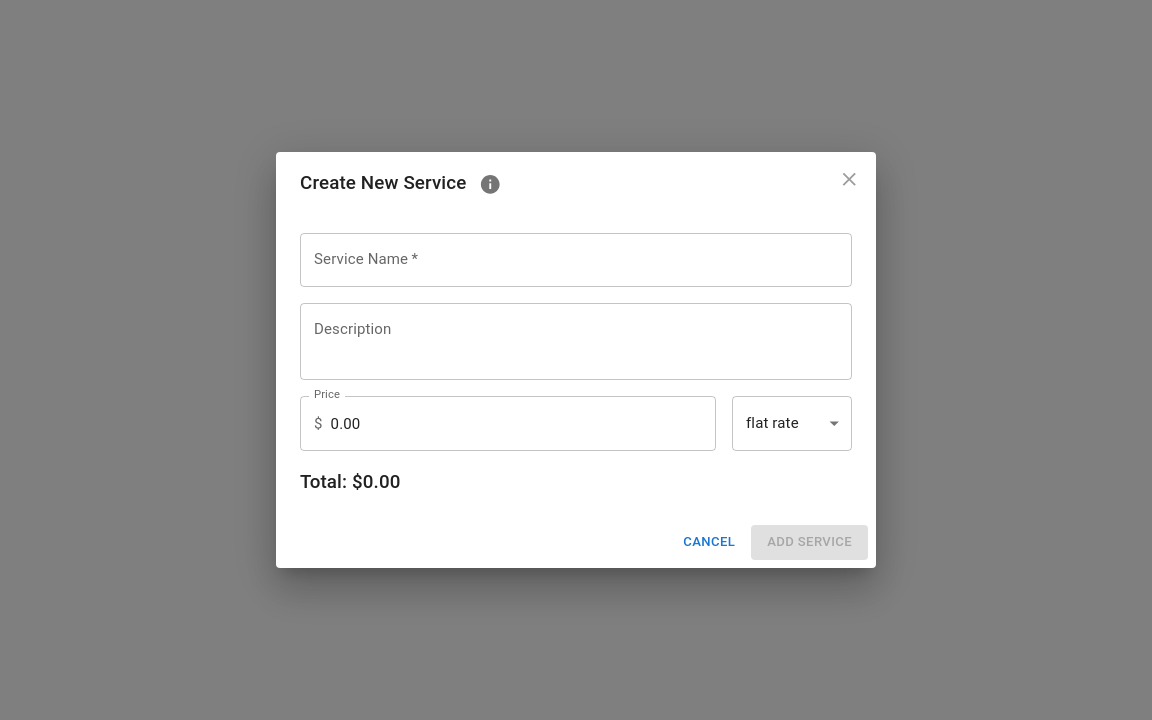
Test: Duplicate Service Name Handling › CreateServiceDialog › should display duplicate name error in the dialog
# Fill in the form
Step 1. Type "Existing Service" into the field labelled "Service Name *" → (576, 260), box [300,233,852,287]
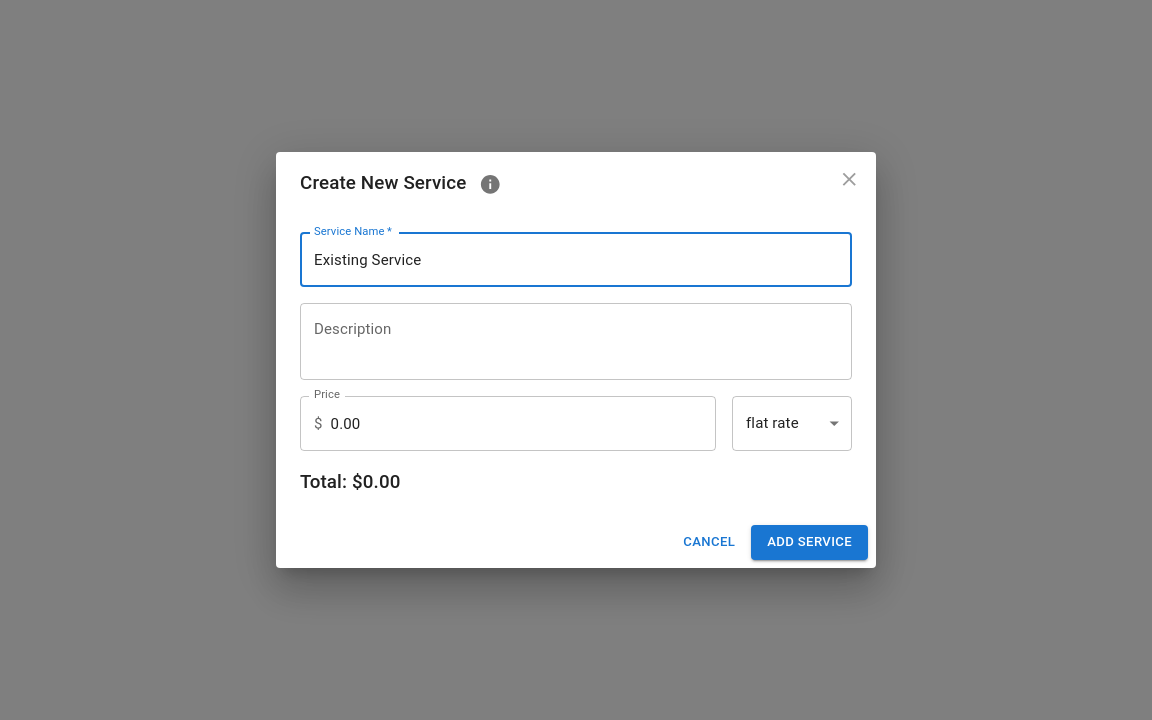
# Set a price (required field)
Step 2. Replace the text in the field labelled "Price" with "50.00" → (523, 424), box [331,396,716,451]
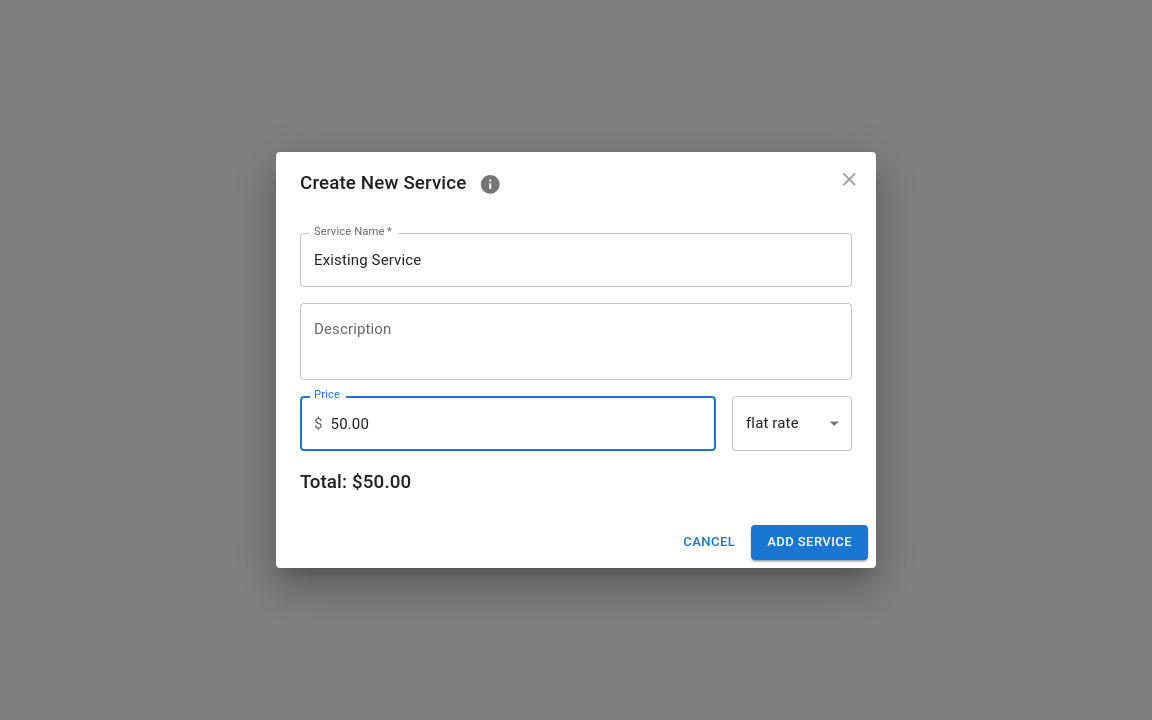
# Submit the form
Step 3. Click the button "Add Service" → click(810, 542), box [751,525,868,560]
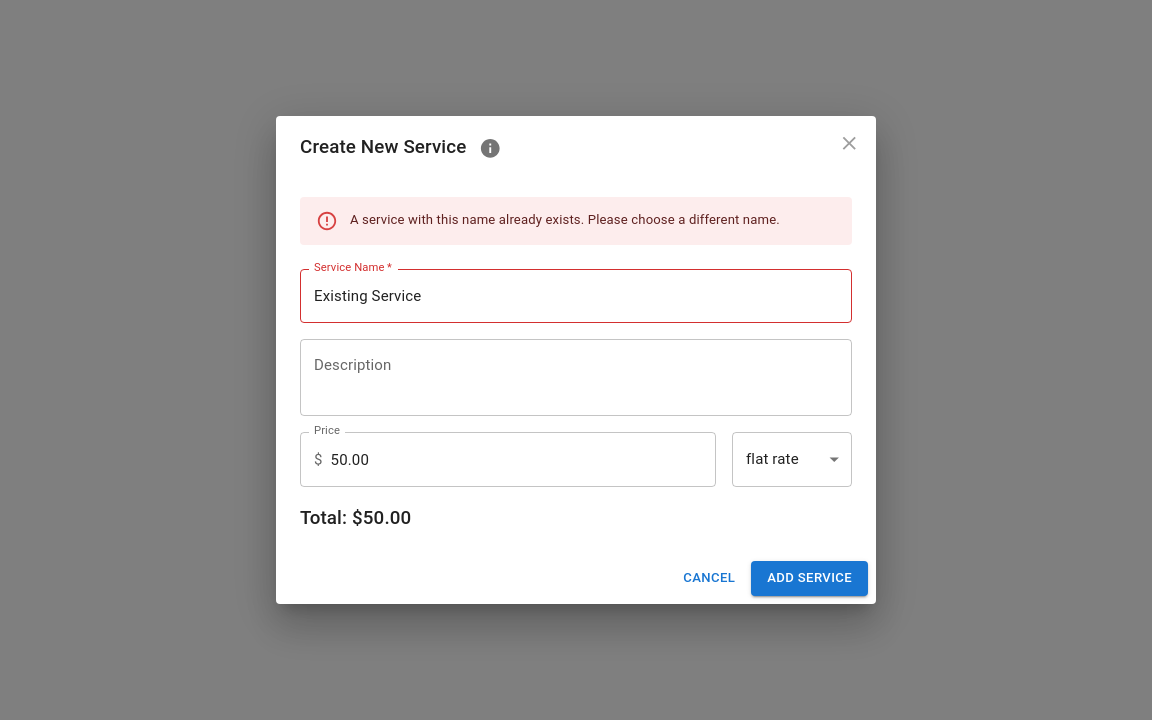
Expected: the message shows "A service with this name already exists", [350,212,780,227]
